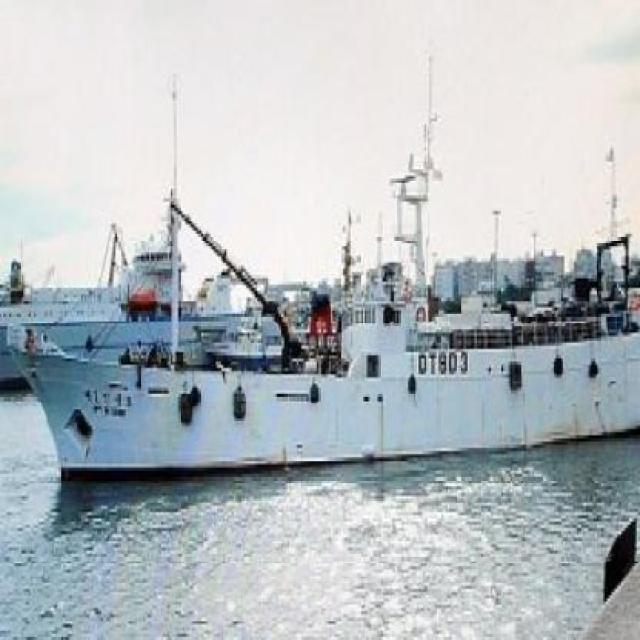fish-b: (1, 160, 639, 519)
